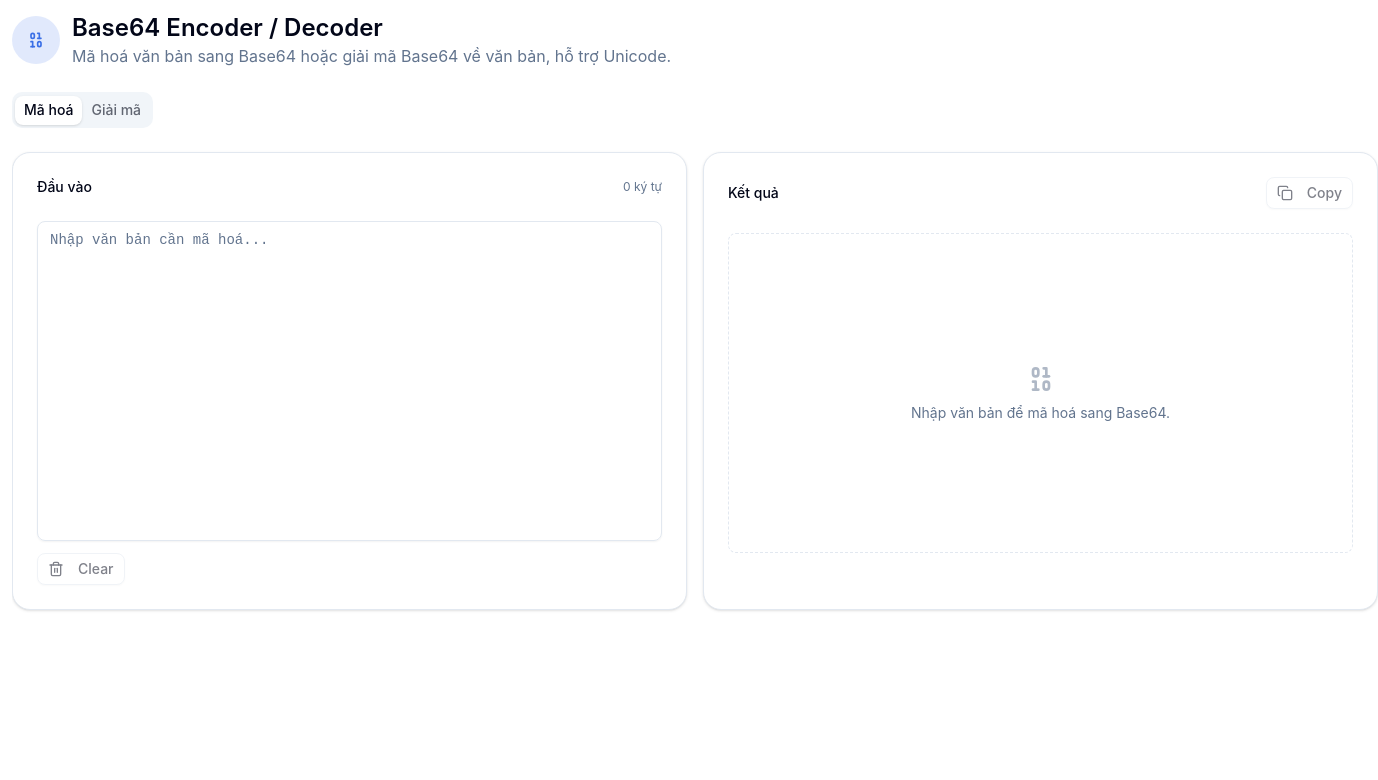
Test: Base64EncoderDecoderScreen › starts in Encode mode and live-encodes typed text
Type "Hello" into the text box named "Đầu vào" at (350, 381), box [37,221,662,541]
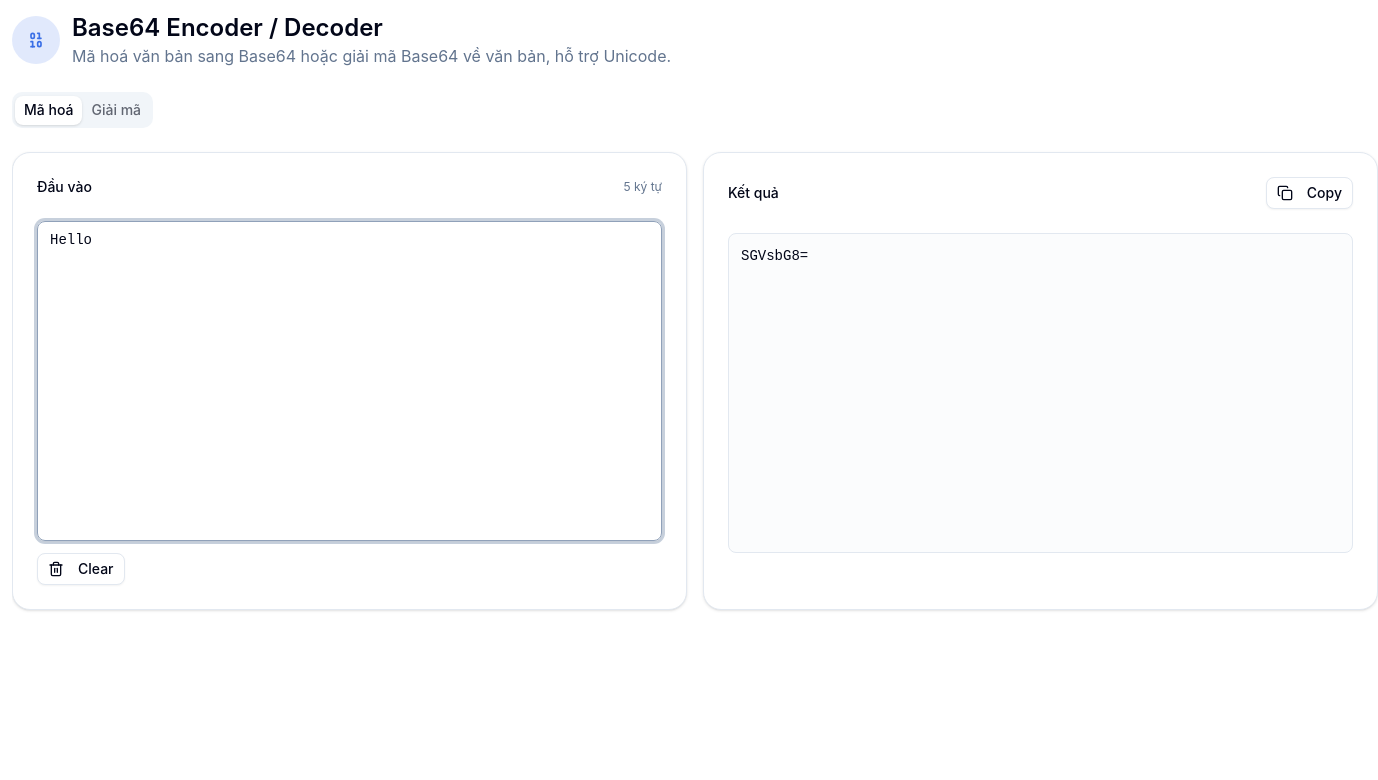
Result: the text "SGVsbG8=" is shown at [728,233,1353,553]
